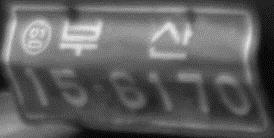-: (90, 79, 108, 93)
0: (213, 71, 252, 117)
1: (145, 69, 177, 113), (21, 65, 51, 107)
5: (49, 67, 89, 107)
6: (108, 69, 147, 111)
7: (176, 70, 211, 115)
부산_D: (57, 17, 195, 63)
영: (21, 17, 53, 57)
